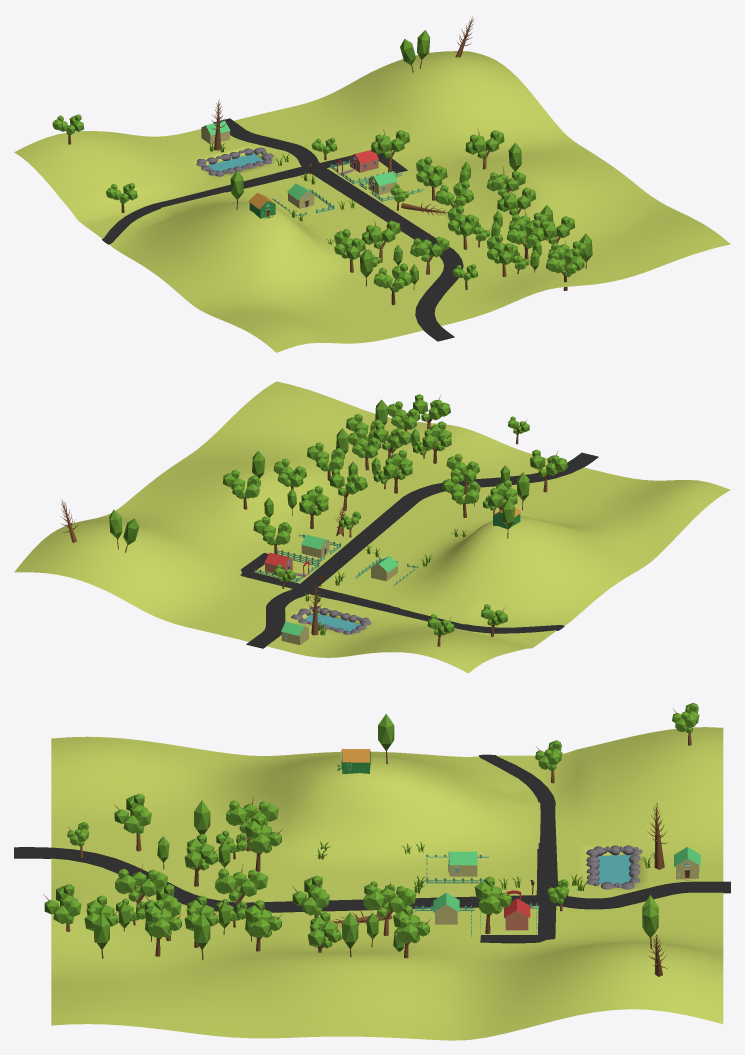
The model's file is Cotoon_land.gltf.
3 views of the same model, one above another, from view 1: azimuth 30°, elevation 25°; view 2: azimuth 150°, elevation 25°; view 3: azimuth 270°, elevation 25° (orthographic). The views are drawn at different scales.
Parts seen in each view (by area): view 1: Landscape_Plane_Landscape, Road_Cube_001_Road, Rock_Cube_006_Rock, Tree_Leaf_018_Icosphere_029_Leaf, Tree_Leaf_008_Icosphere_013_Leaf, Tree_Leaf_021_Icosphere_034_Leaf, Tree_Leaf_011_Icosphere_018_Leaf, Tree_Leaf_012_Icosphere_019_Leaf, Tree_Leaf_022_Icosphere_035_Leaf, Tree_Leaf_007_Icosphere_012_Leaf, Tree_Leaf_Icosphere_Leaf, Tree_Leaf_024_Icosphere_039_Leaf (+6 smaller); view 2: Landscape_Plane_Landscape, Road_Cube_001_Road, Rock_Cube_006_Rock, Tree_Leaf_004_Icosphere_007_Leaf, Tree_Leaf_Icosphere_Leaf, Tree_Leaf_024_Icosphere_039_Leaf, Tree_Leaf_014_Icosphere_023_Leaf, Tree_Leaf_008_Icosphere_013_Leaf, Tree_Leaf_021_Icosphere_034_Leaf, Tree_Leaf_017_Icosphere_028_Leaf, Tree_Leaf_022_Icosphere_035_Leaf, Tree_Leaf_012_Icosphere_019_Leaf (+7 smaller); view 3: Landscape_Plane_Landscape, Road_Cube_001_Road, Rock_Cube_006_Rock, Tree_Leaf_012_Icosphere_019_Leaf, Tree_Leaf_022_Icosphere_035_Leaf, Tree_Leaf_017_Icosphere_028_Leaf, Tree_Leaf_007_Icosphere_012_Leaf, Tree_Leaf_018_Icosphere_029_Leaf, Tree_Leaf_021_Icosphere_034_Leaf, Tree_Leaf_008_Icosphere_013_Leaf, Tree_Leaf_004_Icosphere_007_Leaf, Tree_Leaf_Icosphere_Leaf (+12 smaller).
Boxes of the visible parts, x1,y1,x2,y2 form: Landscape_Plane_Landscape: (14, 51, 730, 352); Road_Cube_001_Road: (102, 118, 463, 341); Rock_Cube_006_Rock: (196, 147, 273, 176); Tree_Leaf_018_Icosphere_029_Leaf: (545, 248, 584, 276); Tree_Leaf_008_Icosphere_013_Leaf: (373, 263, 412, 292); Tree_Leaf_021_Icosphere_034_Leaf: (435, 180, 473, 207); Tree_Leaf_011_Icosphere_018_Leaf: (506, 219, 544, 248); Tree_Leaf_012_Icosphere_019_Leaf: (447, 205, 479, 236); Tree_Leaf_022_Icosphere_035_Leaf: (416, 156, 447, 187); Tree_Leaf_007_Icosphere_012_Leaf: (334, 229, 365, 259); Tree_Leaf_Icosphere_Leaf: (371, 130, 409, 158); Tree_Leaf_024_Icosphere_039_Leaf: (465, 130, 504, 158); Landscape_Plane_Landscape: (14, 381, 730, 673); Road_Cube_001_Road: (240, 452, 598, 648); Rock_Cube_006_Rock: (291, 606, 371, 634); Tree_Leaf_004_Icosphere_007_Leaf: (442, 475, 480, 504); Tree_Leaf_Icosphere_Leaf: (253, 516, 291, 545); Tree_Leaf_024_Icosphere_039_Leaf: (222, 470, 260, 498); Tree_Leaf_014_Icosphere_023_Leaf: (307, 442, 344, 471); Tree_Leaf_008_Icosphere_013_Leaf: (530, 449, 568, 476); Tree_Leaf_021_Icosphere_034_Leaf: (329, 468, 367, 495); Tree_Leaf_017_Icosphere_028_Leaf: (422, 421, 451, 451); Tree_Leaf_022_Icosphere_035_Leaf: (299, 486, 328, 515); Tree_Leaf_012_Icosphere_019_Leaf: (383, 450, 412, 479); Landscape_Plane_Landscape: (51, 727, 723, 1040); Road_Cube_001_Road: (14, 754, 730, 943); Rock_Cube_006_Rock: (586, 845, 642, 889); Tree_Leaf_012_Icosphere_019_Leaf: (215, 868, 268, 901); Tree_Leaf_022_Icosphere_035_Leaf: (363, 885, 416, 918); Tree_Leaf_017_Icosphere_028_Leaf: (115, 868, 167, 901); Tree_Leaf_007_Icosphere_012_Leaf: (226, 800, 278, 833); Tree_Leaf_018_Icosphere_029_Leaf: (44, 884, 81, 924); Tree_Leaf_021_Icosphere_034_Leaf: (292, 875, 329, 915); Tree_Leaf_008_Icosphere_013_Leaf: (114, 793, 151, 834); Tree_Leaf_004_Icosphere_007_Leaf: (245, 815, 281, 853); Tree_Leaf_Icosphere_Leaf: (474, 876, 511, 914).
Size of the model in its own units: 1.78 by 0.318 by 1.9.
